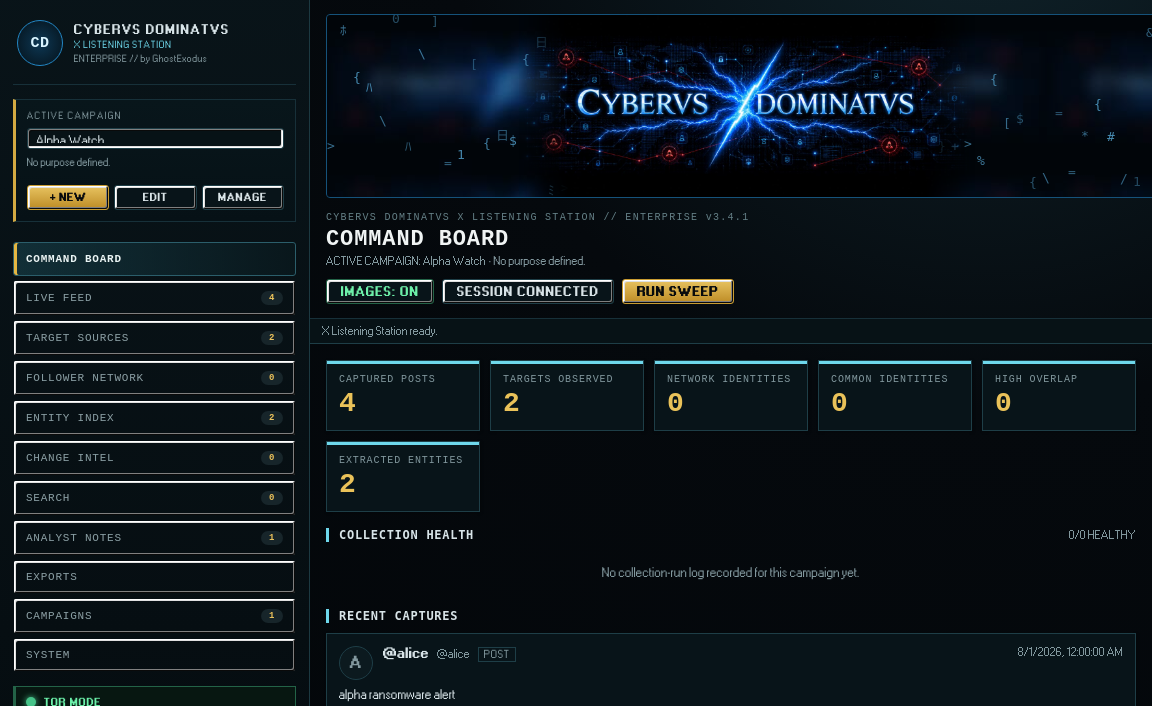
PC5 — restored analyst-UX filters (M12–M15, L2) › M13: TYPE + SOURCE filters narrow the results with an empty query (return-all-with-filters)
Click the button with class "xls-tab" showing "SEARCH 0". click: click(48, 498)
box: left=13, top=480, right=296, bottom=516
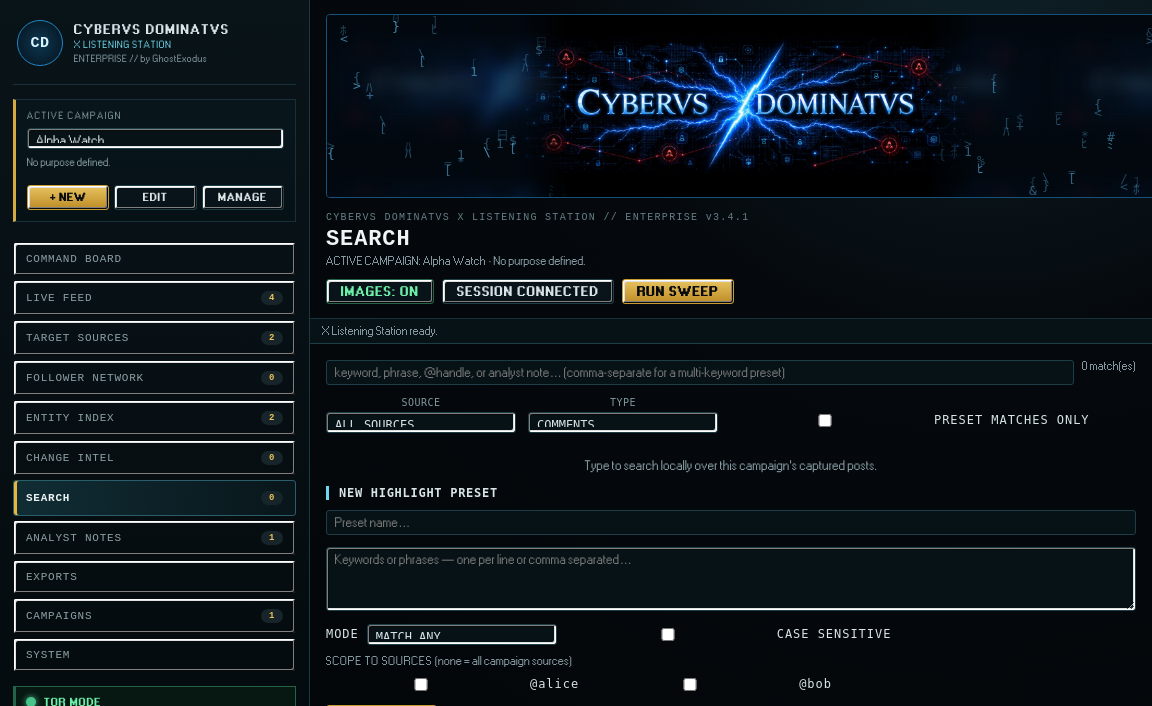
Select "COMMENTS" in the dropdown with class "xls-search-kind". click: (623, 423)
box: left=528, top=412, right=718, bottom=433
(page scrolled)
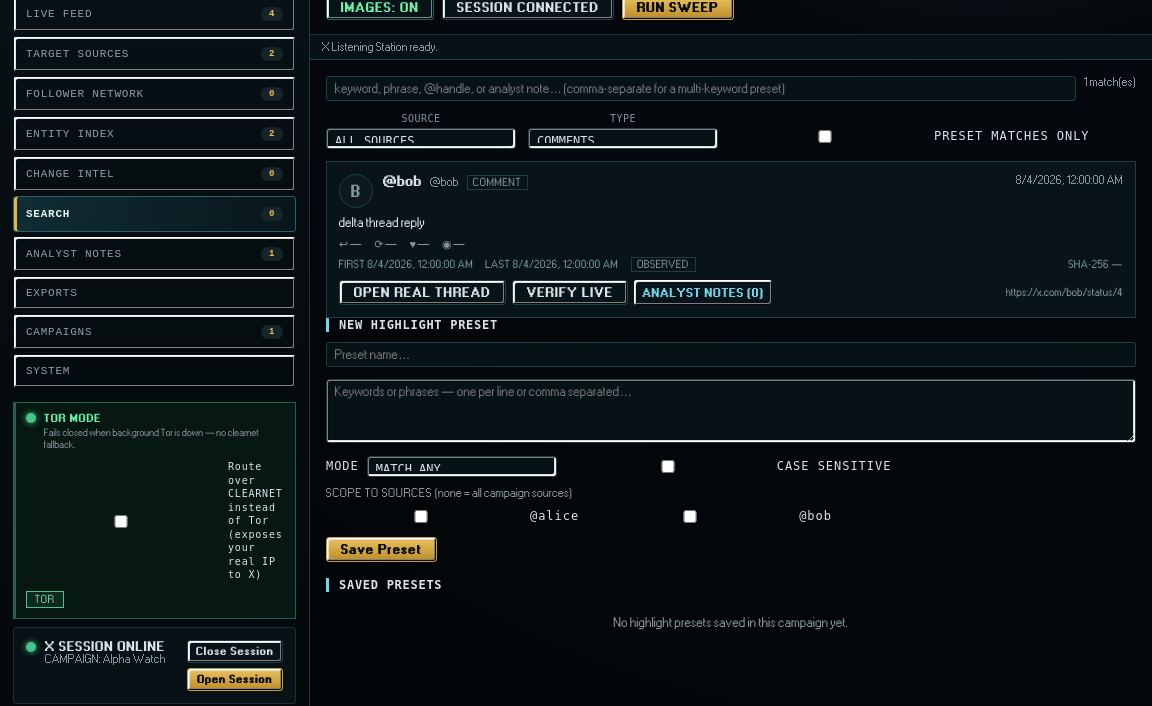
Check: the number of elements with class "xls-post-card" is 1, box left=326, top=161, right=1136, bottom=318
Check: the element with class "xls-search" shows "delta thread reply", box left=339, top=216, right=425, bottom=229
